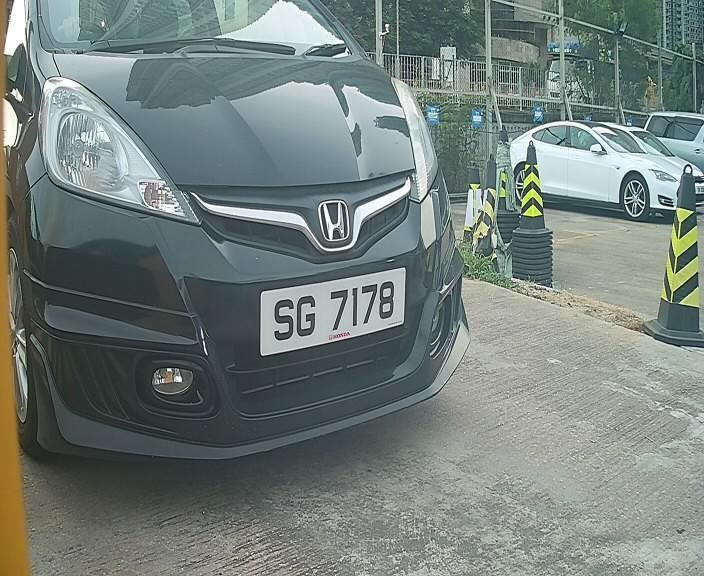License Plate: (252, 263, 412, 355)
